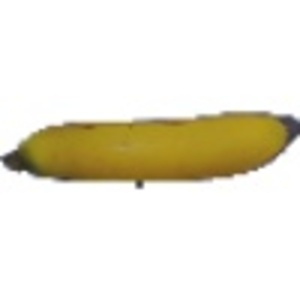banana: (1, 107, 299, 185)
